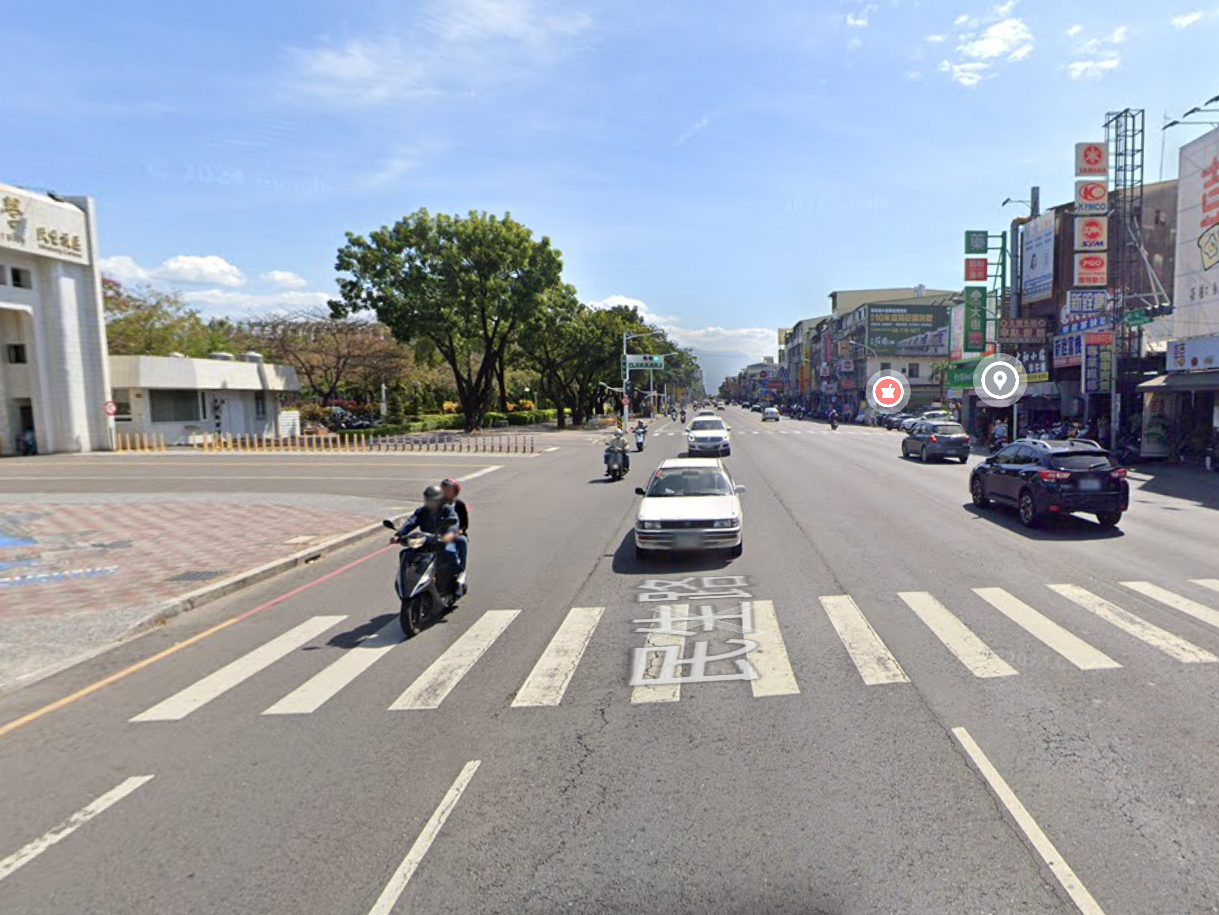green: (641, 350, 661, 366)
